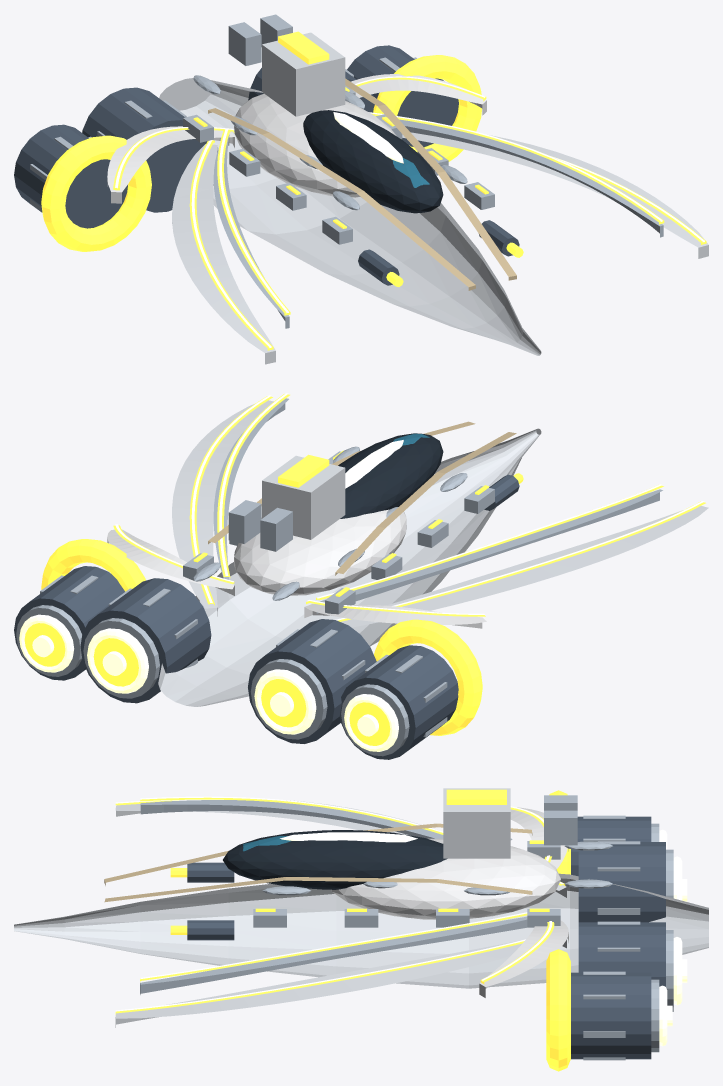
Rendered from SL_SERAPH_FINAL.glb.
The picture shows the model from 3 angles, top to bottom: view 1: azimuth 30°, elevation 25°; view 2: azimuth 150°, elevation 25°; view 3: azimuth 270°, elevation 25°; orthographic projection.
Visible parts, largest first — view 1: armor, shadow, neon, panel, highlight, black, trim, bright; view 2: armor, shadow, panel, neon, highlight, bright, black, trim; view 3: armor, shadow, panel, highlight, black, neon, bright, trim.
Boxes of the visible parts, left/top/right/bottom form: armor: left=159, top=32, right=708, bottom=364; shadow: left=14, top=45, right=519, bottom=285; neon: left=41, top=31, right=706, bottom=350; panel: left=30, top=14, right=663, bottom=328; highlight: left=107, top=74, right=486, bottom=203; black: left=303, top=110, right=443, bottom=213; trim: left=208, top=78, right=516, bottom=290; bright: left=115, top=76, right=704, bottom=347; armor: left=158, top=400, right=708, bottom=706; shadow: left=14, top=474, right=519, bottom=759; panel: left=16, top=398, right=662, bottom=756; neon: left=24, top=394, right=705, bottom=745; highlight: left=107, top=509, right=486, bottom=628; bright: left=19, top=393, right=704, bottom=751; black: left=338, top=433, right=443, bottom=518; trim: left=208, top=421, right=516, bottom=575; armor: left=14, top=788, right=708, bottom=1027; shadow: left=187, top=816, right=665, bottom=1059; panel: left=140, top=795, right=673, bottom=1060; highlight: left=331, top=807, right=568, bottom=997; black: left=223, top=830, right=447, bottom=889; neon: left=115, top=789, right=570, bottom=1071; bright: left=115, top=796, right=687, bottom=1046; trim: left=104, top=823, right=532, bottom=902.
Size of the model in its own units: 4.58 by 1.9 by 6.22.
